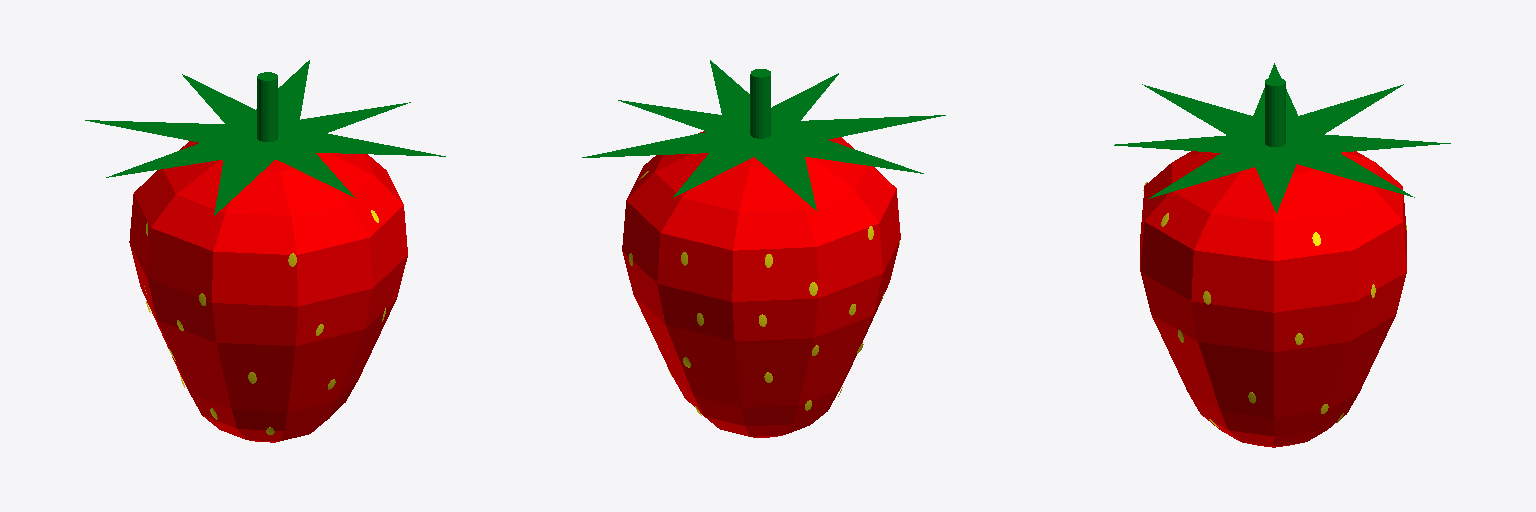
The picture shows the model from 3 angles: view 1: azimuth 30°, elevation 25°; view 2: azimuth 150°, elevation 25°; view 3: azimuth 270°, elevation 25°; orthographic projection.
Parts seen in each view (by area): view 1: pSphere1, pCylinder2, pasted__pasted__pasted__pasted__pasted__pasted__pasted__pasted__; view 2: pSphere1, pCylinder2; view 3: pSphere1, pCylinder2, pasted__pasted__pasted__pasted__pasted__pasted__pasted__pasted__.
Boxes of the visible parts, box(x1,y1,x2,y2) form: pSphere1: box(129, 141, 407, 442); pCylinder2: box(85, 60, 445, 215); pasted__pasted__pasted__pasted__pasted__pasted__pasted__pasted__: box(177, 210, 385, 434); pSphere1: box(622, 131, 900, 437); pCylinder2: box(582, 60, 945, 210); pSphere1: box(1140, 151, 1406, 447); pCylinder2: box(1114, 63, 1450, 213); pasted__pasted__pasted__pasted__pasted__pasted__pasted__pasted__: box(1143, 182, 1375, 427).
Bounding box in the file's own units: 2.98 × 3.29 × 2.86.
Materials: 1 (1 with a texture image).